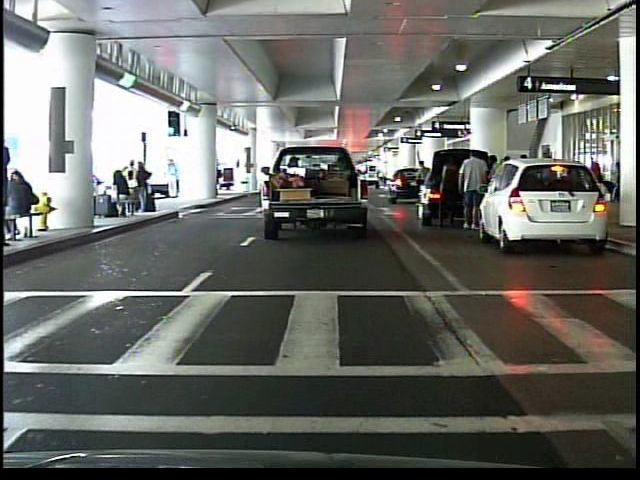person: (457, 145, 489, 235), (430, 148, 462, 229), (582, 151, 609, 201), (412, 156, 431, 209), (165, 156, 183, 200), (8, 130, 12, 242)
